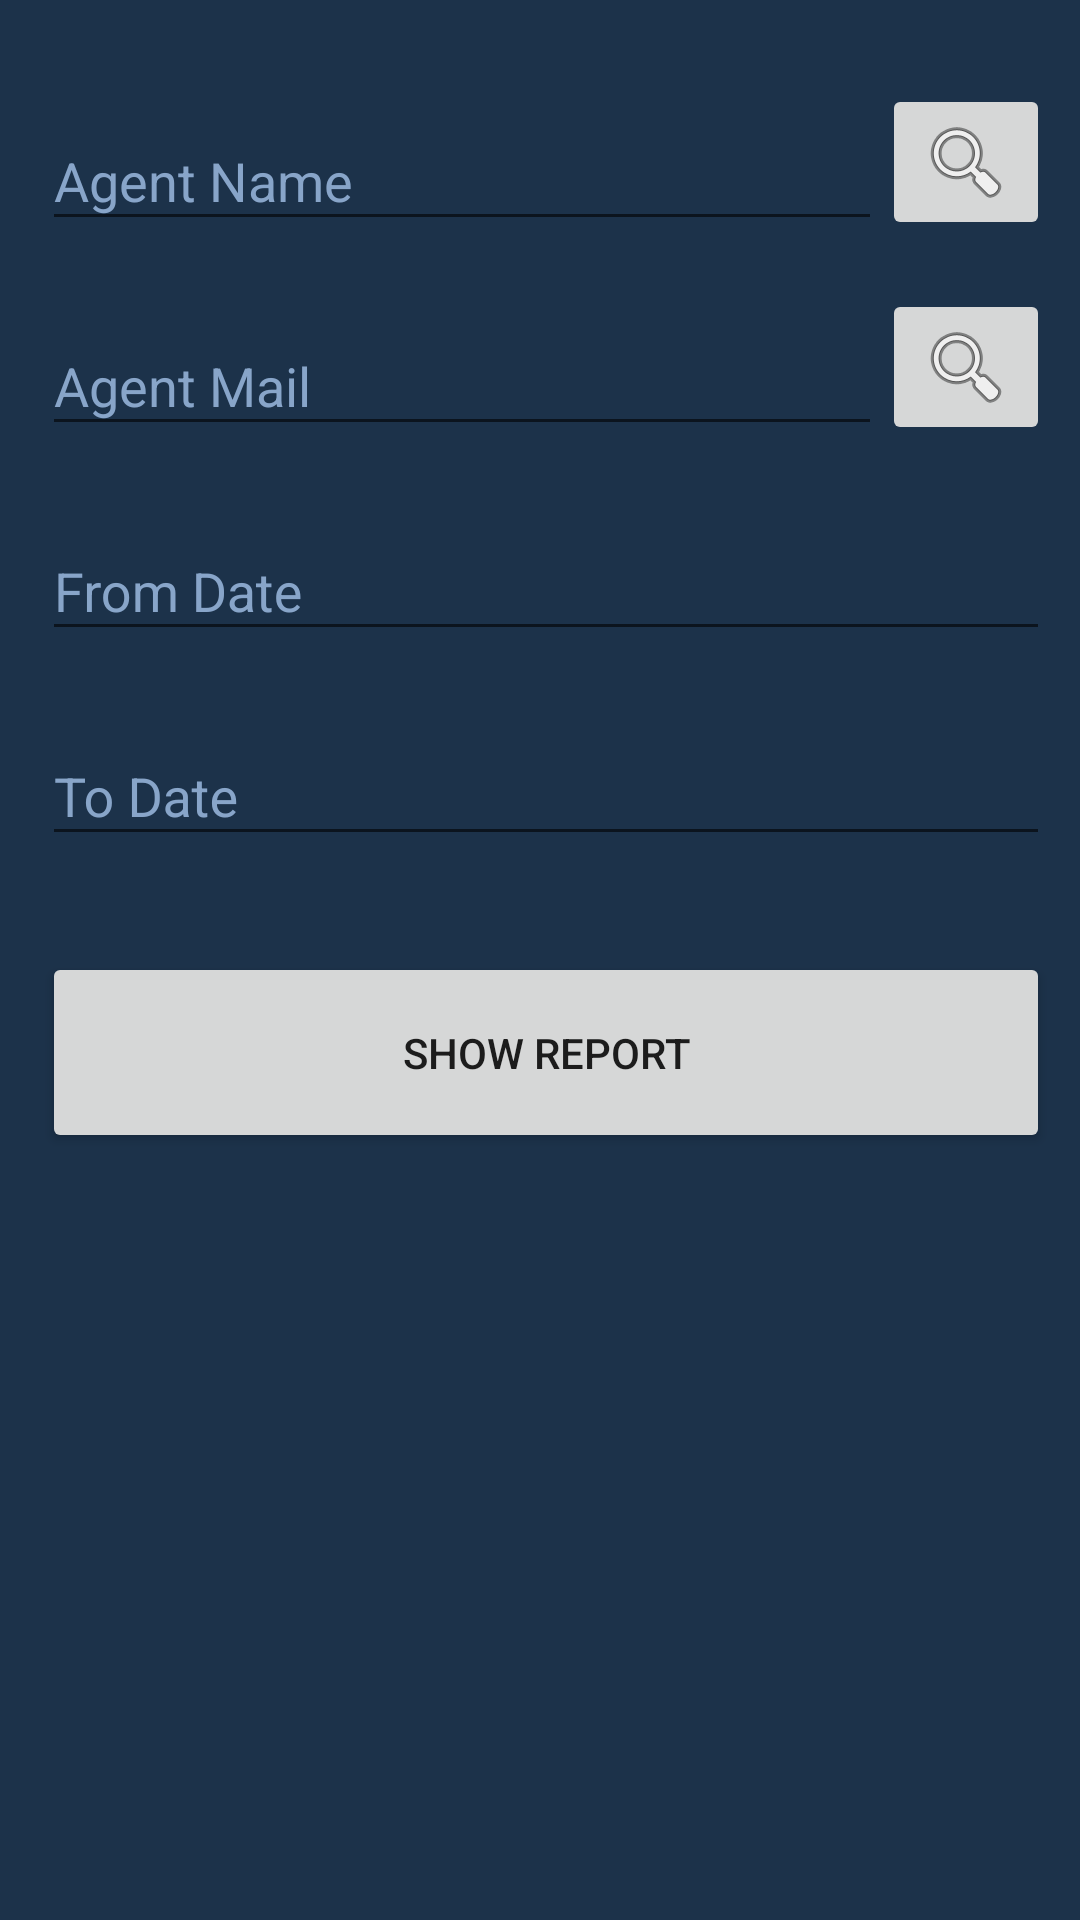

Named icons in this screenshot (1080*1920) and their bounding boxes, {"left": x1, "top": y1, "right": x2, "bottom": y2}:
Search: {"left": 894, "top": 102, "right": 1038, "bottom": 222}, {"left": 894, "top": 307, "right": 1038, "bottom": 427}
